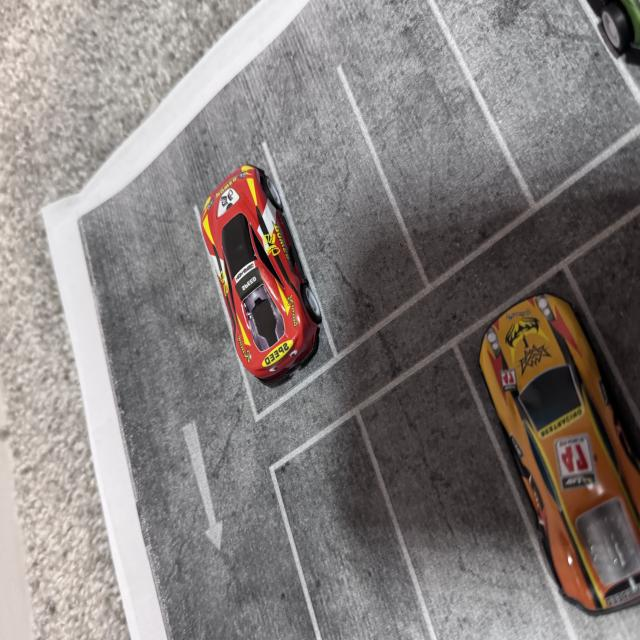Car: (492, 250, 630, 628), (216, 136, 326, 384)
